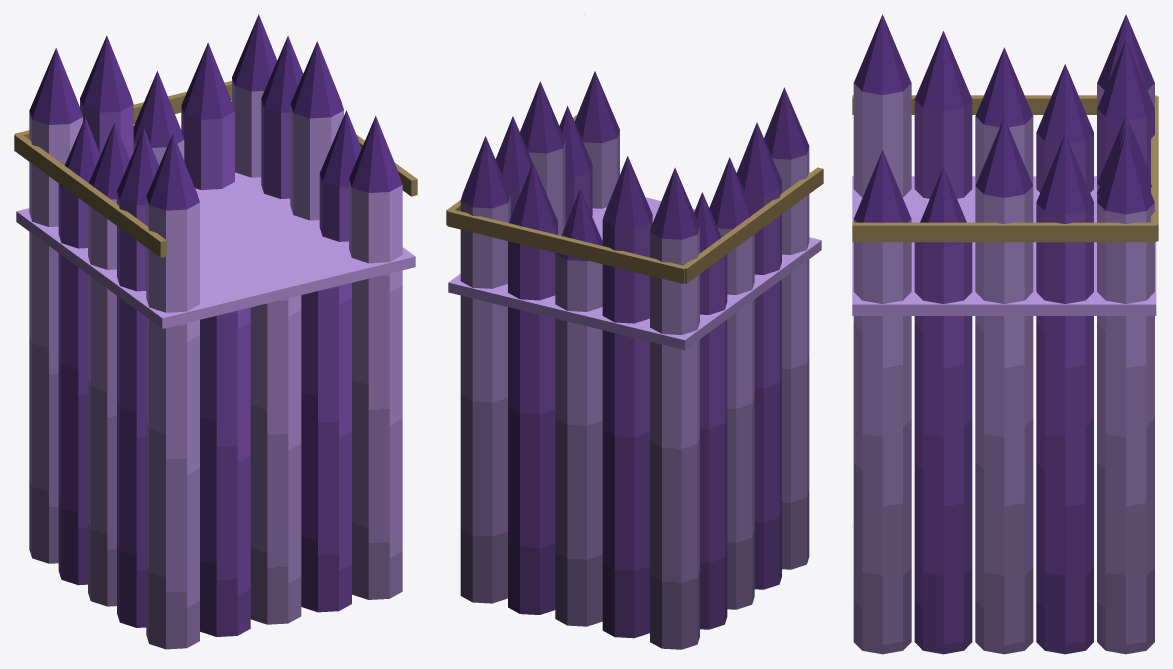
Rendered from perimeter_wall_crystal_f4.glb.
3 views of the same model, side by side, from view 1: azimuth 30°, elevation 25°; view 2: azimuth 150°, elevation 25°; view 3: azimuth 270°, elevation 25° (orthographic). The views are drawn at different scales.
Bounding box in the file's own units: 2.03 × 3.9 × 2.01.
1 material, 1 textured.
